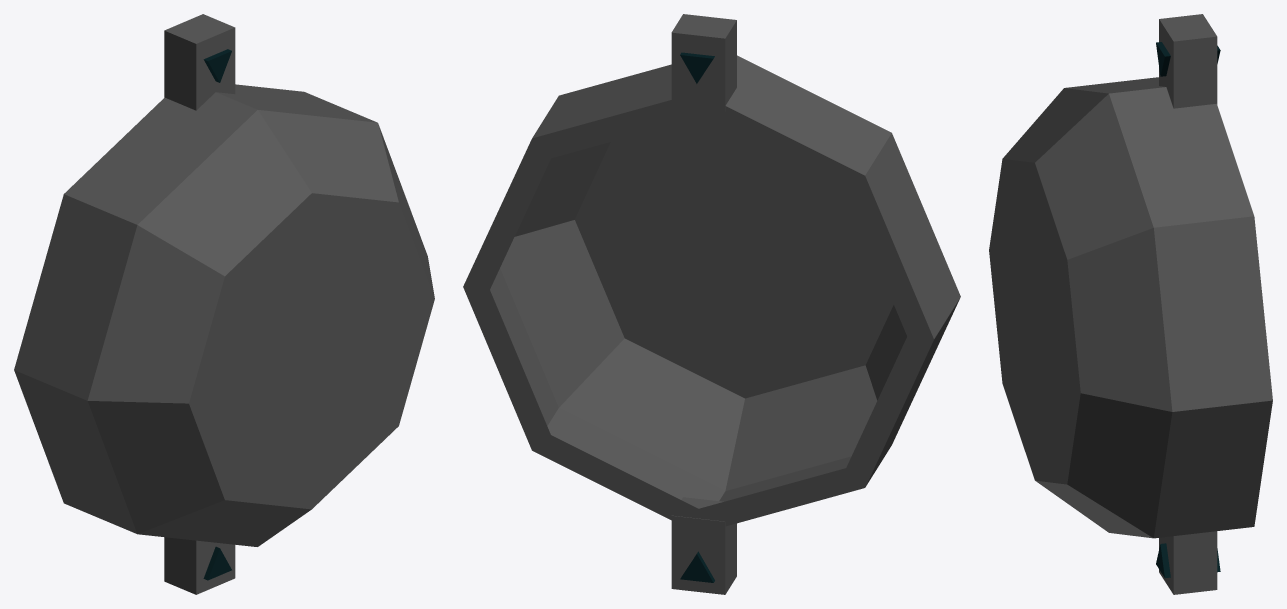
The model's file is KITCHEN INVENTORY 6.fbx.
3 views of the same model, side by side, from view 1: azimuth 30°, elevation 25°; view 2: azimuth 150°, elevation 25°; view 3: azimuth 270°, elevation 25° (orthographic).
Visible parts, largest first — view 1: KITCHEN_INVENTORY_6; view 2: KITCHEN_INVENTORY_6; view 3: KITCHEN_INVENTORY_6.
Boxes of the visible parts, x1=… form: KITCHEN_INVENTORY_6: x1=14, y1=14, x2=434, y2=594; KITCHEN_INVENTORY_6: x1=463, y1=14, x2=960, y2=594; KITCHEN_INVENTORY_6: x1=989, y1=14, x2=1272, y2=594.
Size of the model in its own units: 65.58 by 80.88 by 37.62.
1 material, 1 textured.
